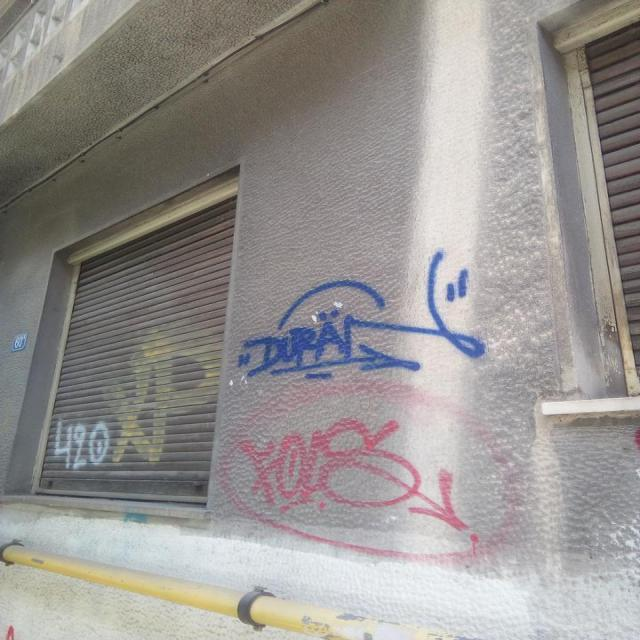nonspitting: (238, 252, 486, 380), (240, 419, 480, 544), (111, 336, 218, 464), (53, 418, 107, 469)
